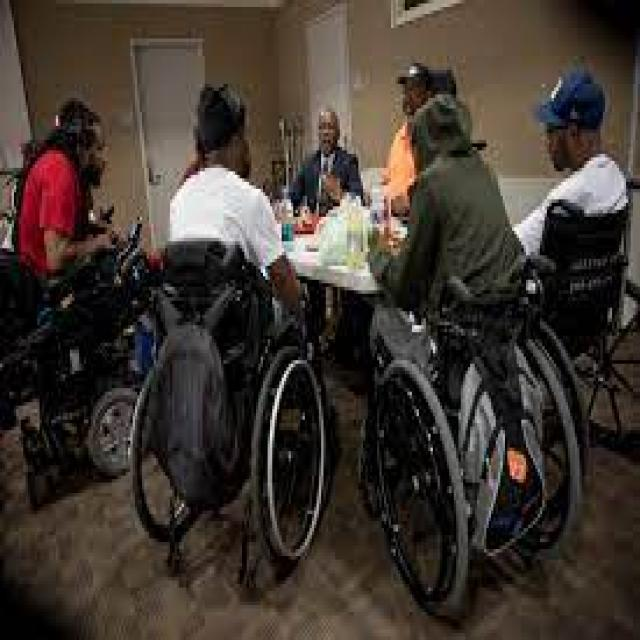wheelchairs: (350, 217, 589, 640), (120, 230, 345, 606), (0, 164, 157, 510), (530, 183, 640, 467)
